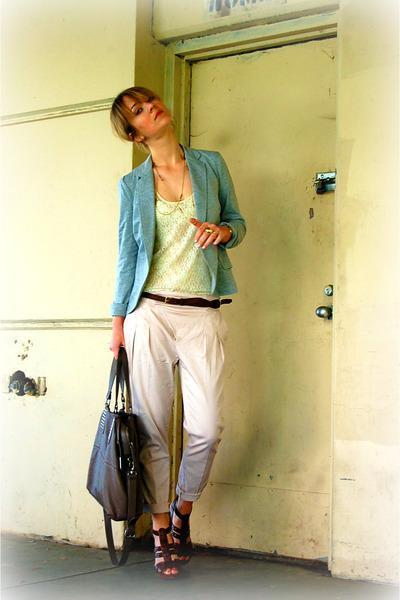bag: (86, 348, 152, 550)
jacket: (112, 148, 247, 316)
pants: (124, 300, 224, 515)
shirt: (132, 193, 216, 311)
shoe: (142, 522, 191, 580)
